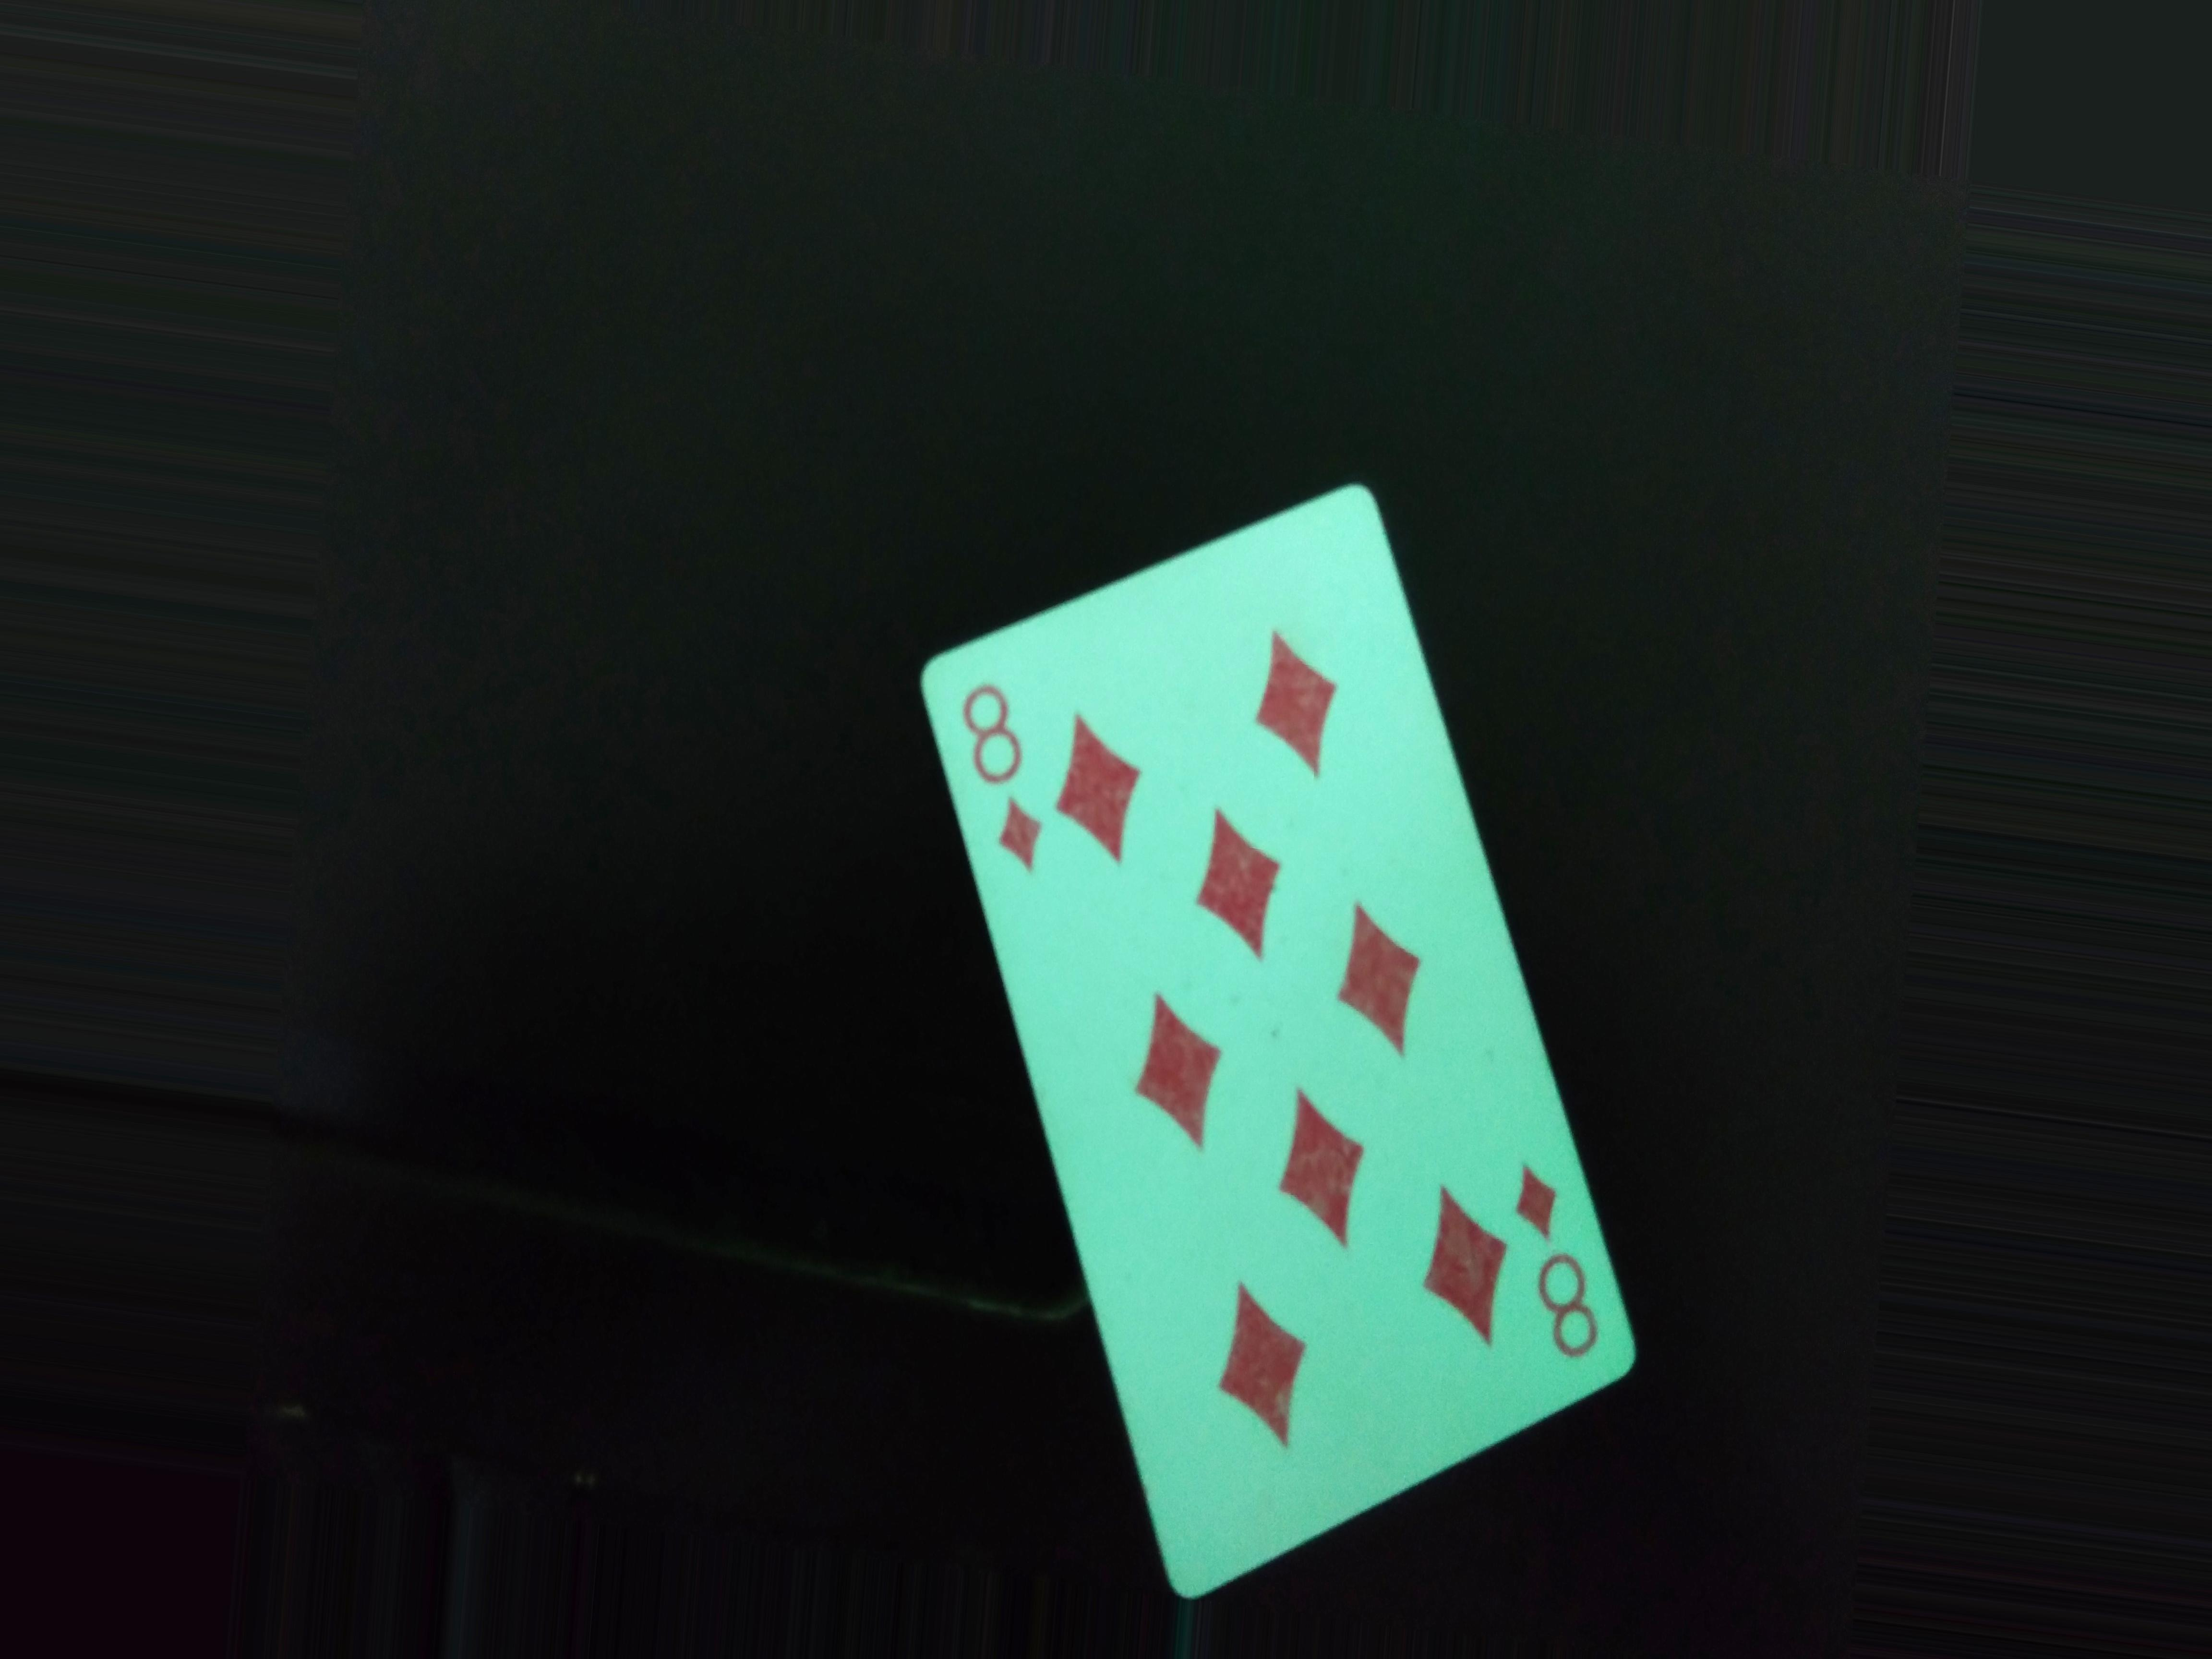8D: (956, 673, 1047, 887)
